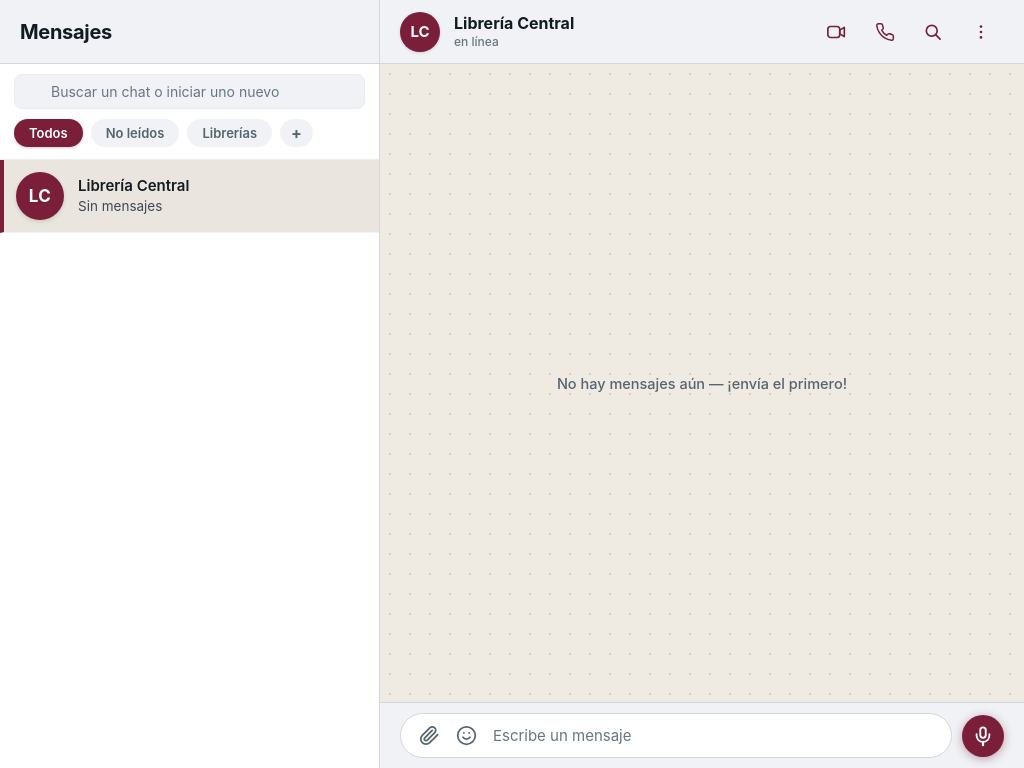
it: Chat (frontend) — pantalla › graba y cancela una nota de voz liberando el micrófono
This screenshot has width=1024, height=768.
Click the button titled "Grabar nota de voz": (983, 736) [962,714,1004,756]
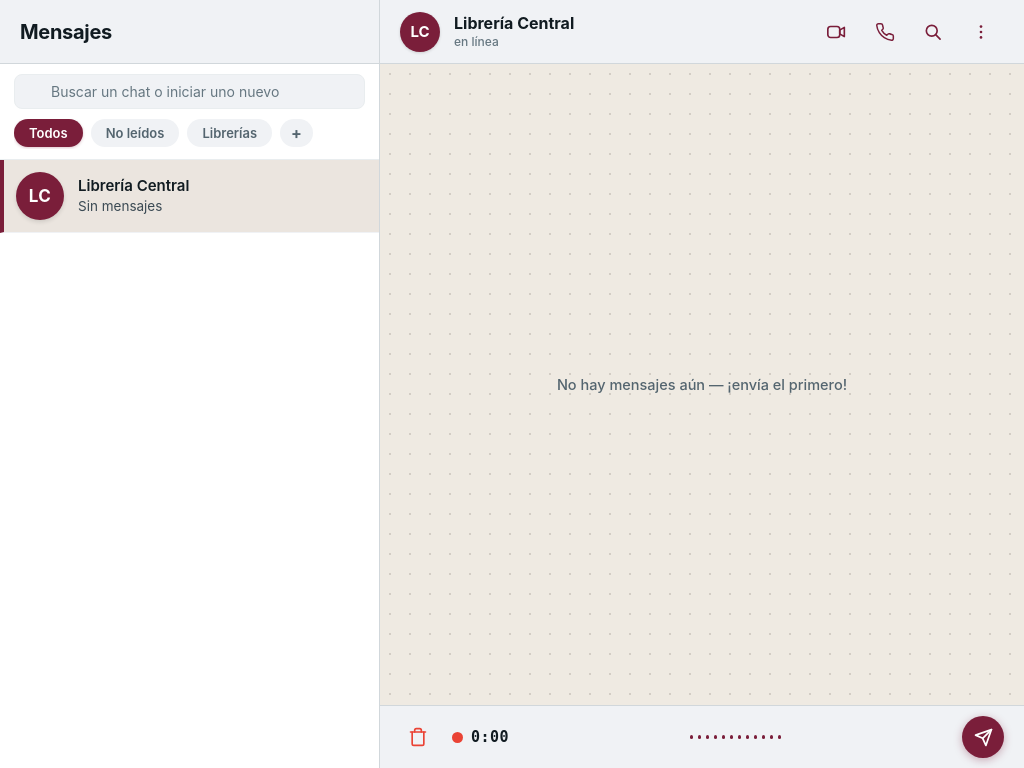
Result: the button titled "Cancelar grabación" is shown
Click the button titled "Cancelar grabación": (418, 737) [400,719,436,755]
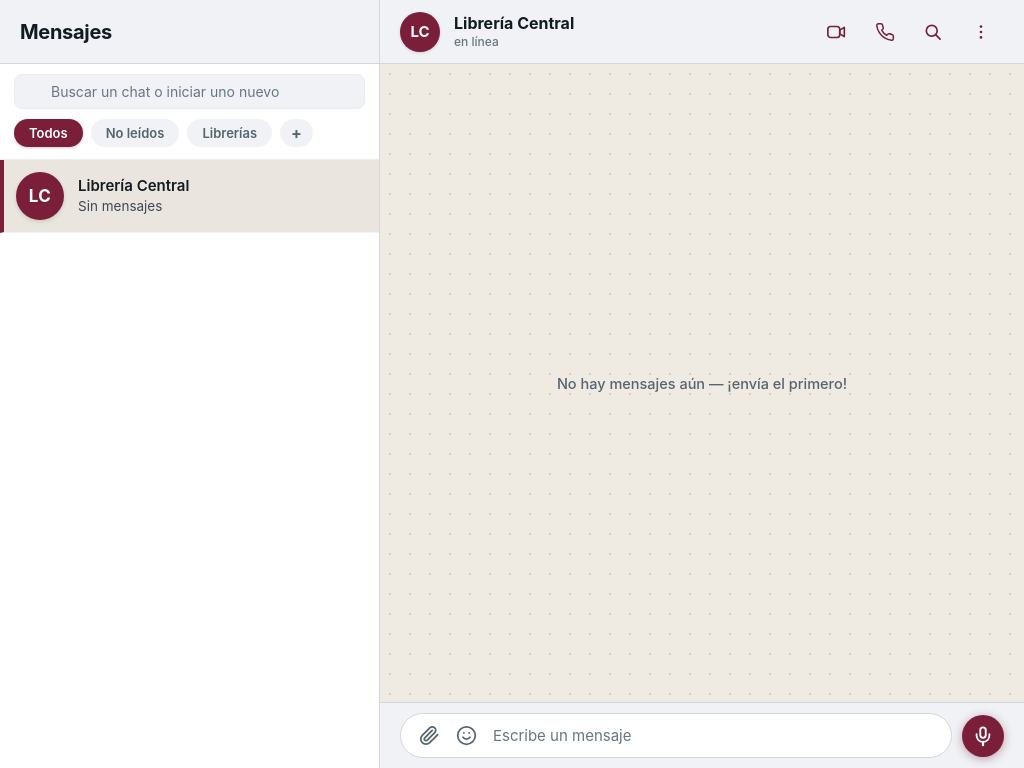
Result: the button titled "Grabar nota de voz" is shown at [962,714,1004,756]
